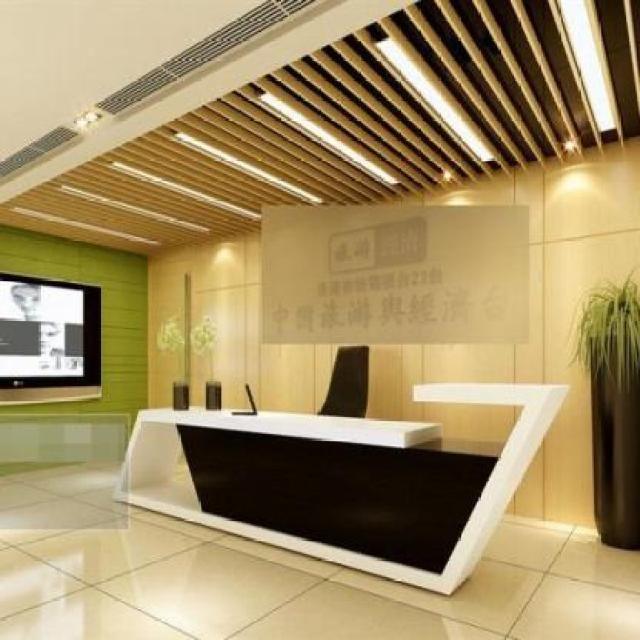frontdesk: (100, 371, 572, 602)
